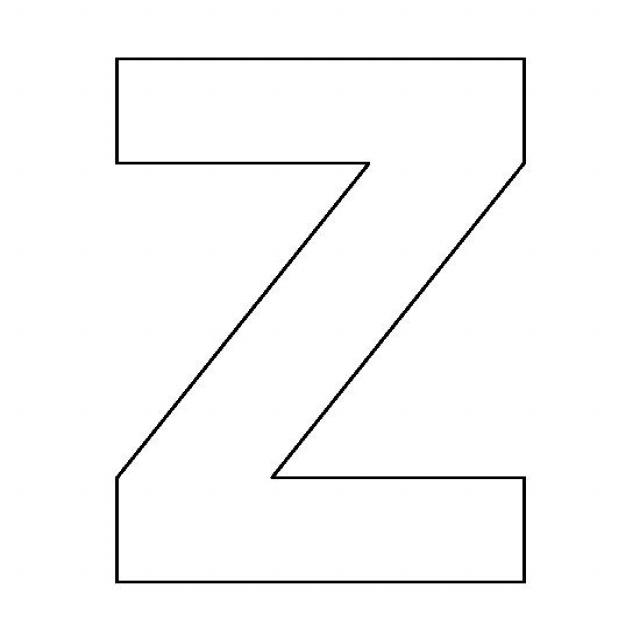Z: (44, 32, 578, 606)
